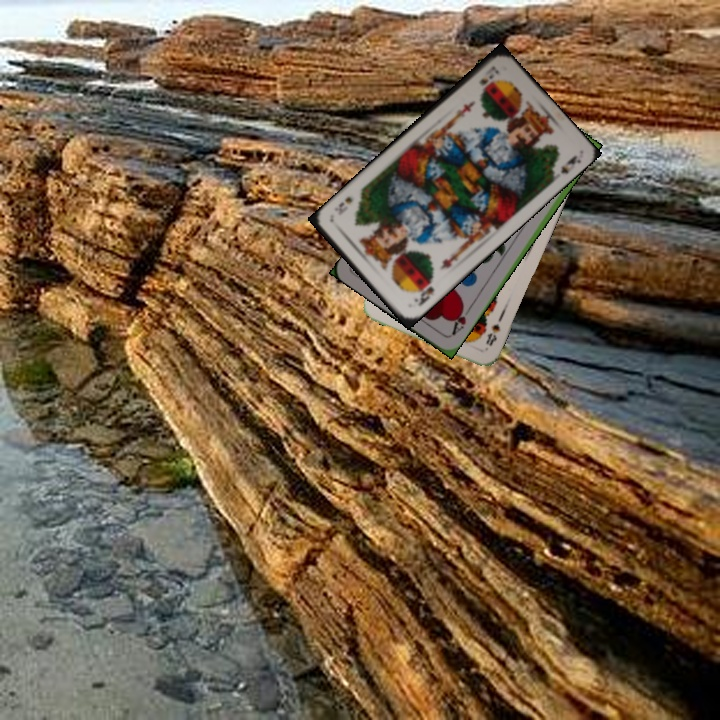HA: (447, 300, 474, 338)
S8: (482, 319, 503, 348)
SK: (410, 274, 437, 309), (475, 62, 502, 88)
